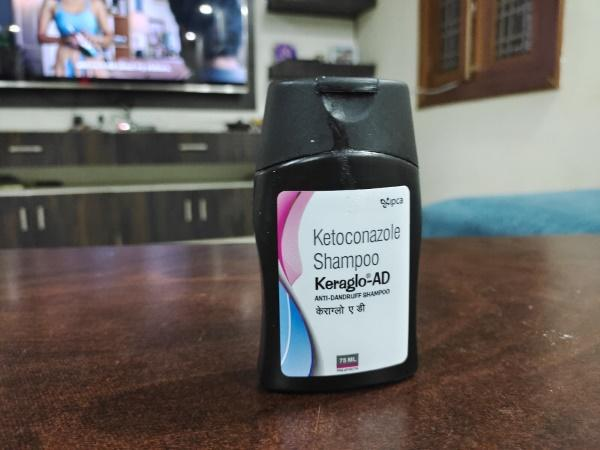KeraGlo: (252, 77, 425, 392)
